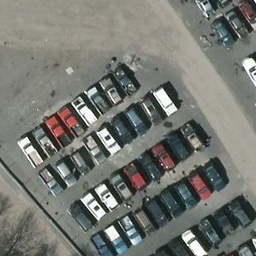car: (15, 136, 43, 167), (29, 127, 57, 158), (44, 116, 72, 147), (57, 105, 85, 136), (70, 95, 98, 126), (121, 105, 148, 133), (137, 96, 164, 124), (150, 87, 177, 115), (67, 203, 94, 231), (78, 191, 105, 219), (92, 184, 119, 212), (106, 174, 133, 202), (118, 163, 145, 191), (133, 153, 160, 181), (147, 144, 174, 172), (160, 133, 187, 161), (179, 124, 206, 152), (82, 86, 109, 113), (98, 78, 125, 105), (113, 65, 140, 92), (37, 167, 64, 194), (50, 160, 77, 187), (66, 149, 93, 176), (80, 138, 107, 165), (94, 128, 121, 155), (107, 117, 134, 144), (119, 216, 142, 244), (131, 209, 154, 237), (146, 198, 169, 226), (158, 190, 181, 218), (171, 180, 194, 208), (188, 171, 211, 199), (201, 163, 224, 191), (105, 226, 127, 253), (89, 236, 114, 256)
